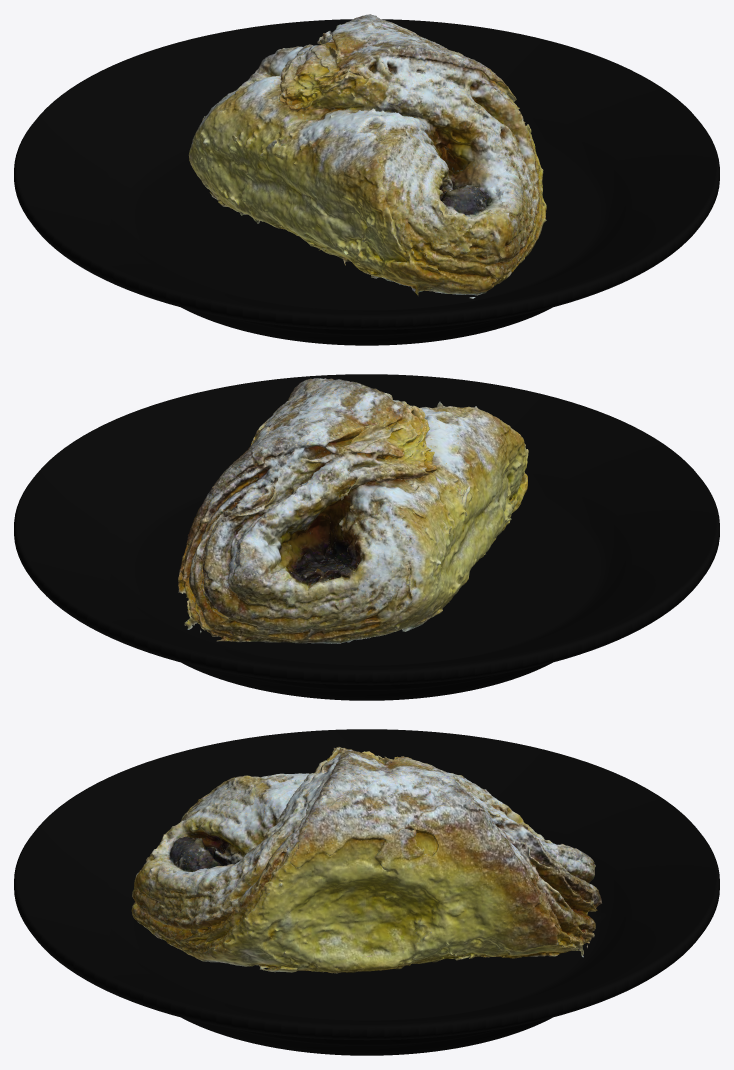
The model's file is 5_corsan.glb.
3 views of the same model, one above another, from view 1: azimuth 30°, elevation 25°; view 2: azimuth 150°, elevation 25°; view 3: azimuth 270°, elevation 25° (orthographic).
Parts seen in each view (by area): view 1: Tarelka, corsan; view 2: Tarelka, corsan; view 3: Tarelka, corsan.
Part boxes in pixels (x1,y1,x2,y2): Tarelka: [14, 19, 719, 345]; corsan: [188, 14, 546, 298]; Tarelka: [14, 374, 719, 700]; corsan: [178, 378, 528, 643]; Tarelka: [14, 729, 719, 1055]; corsan: [131, 747, 601, 973].
Bounding box in the file's own units: 0.0707 × 0.0224 × 0.0707.
Materials: 2 (1 with a texture image).
